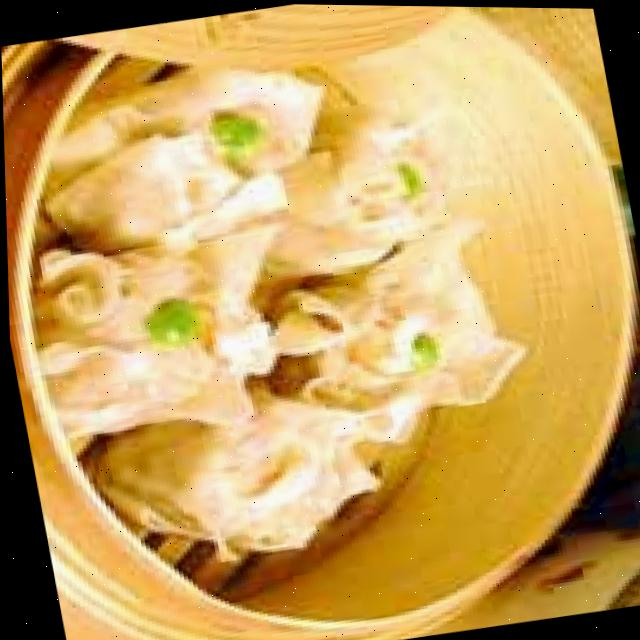带馅早点: (0, 19, 564, 583)
